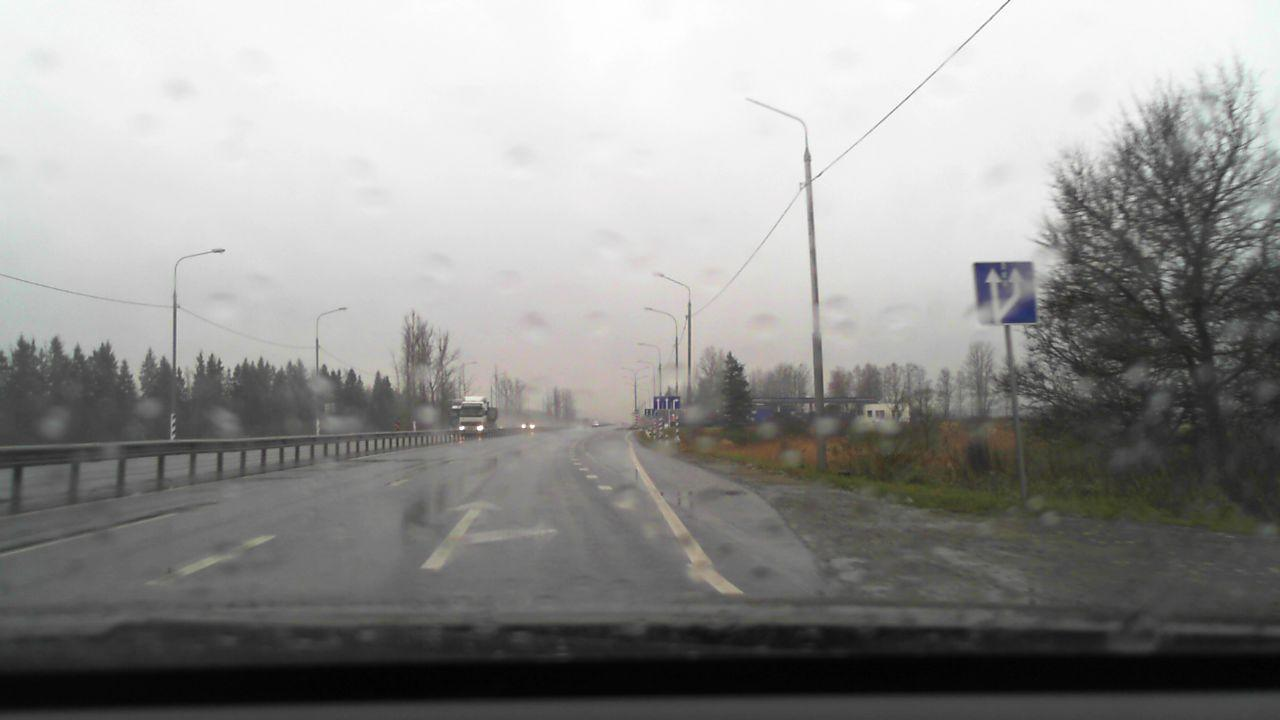5_15_1: (654, 394, 681, 411)
5_15_3: (973, 262, 1037, 324)
